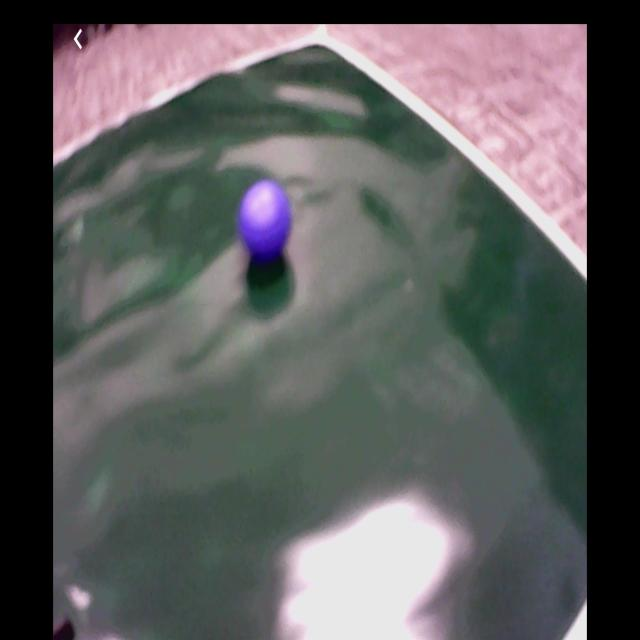ball: (241, 180, 294, 264)
